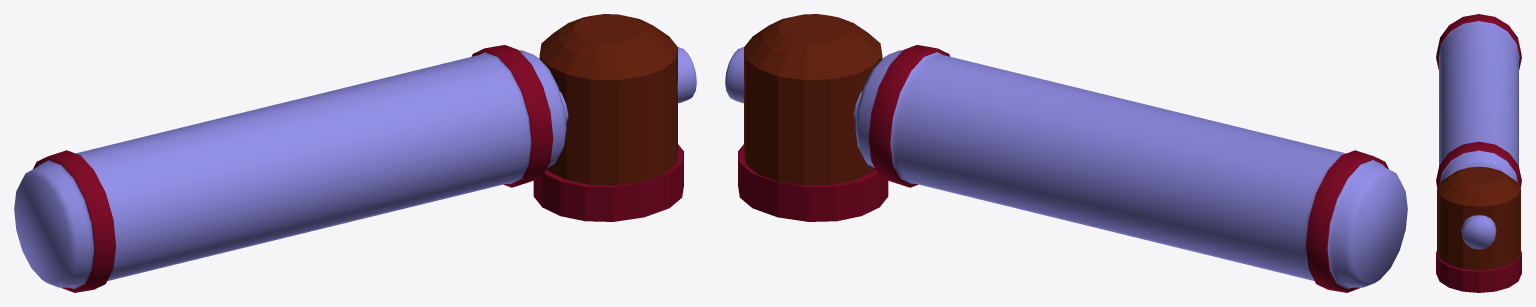
The picture shows the model from 3 angles, left to right: view 1: azimuth 30°, elevation 25°; view 2: azimuth 150°, elevation 25°; view 3: azimuth 270°, elevation 25°; orthographic projection. The views are drawn at different scales.
Visible parts, largest first — view 1: Cylinder; view 2: Cylinder; view 3: Cylinder.
Boxes of the visible parts, x1,y1,x2,y2 form: Cylinder: [14, 14, 696, 292]; Cylinder: [725, 14, 1407, 292]; Cylinder: [1436, 14, 1521, 292].
Bounding box in the file's own units: 409 × 100 × 78.72.
